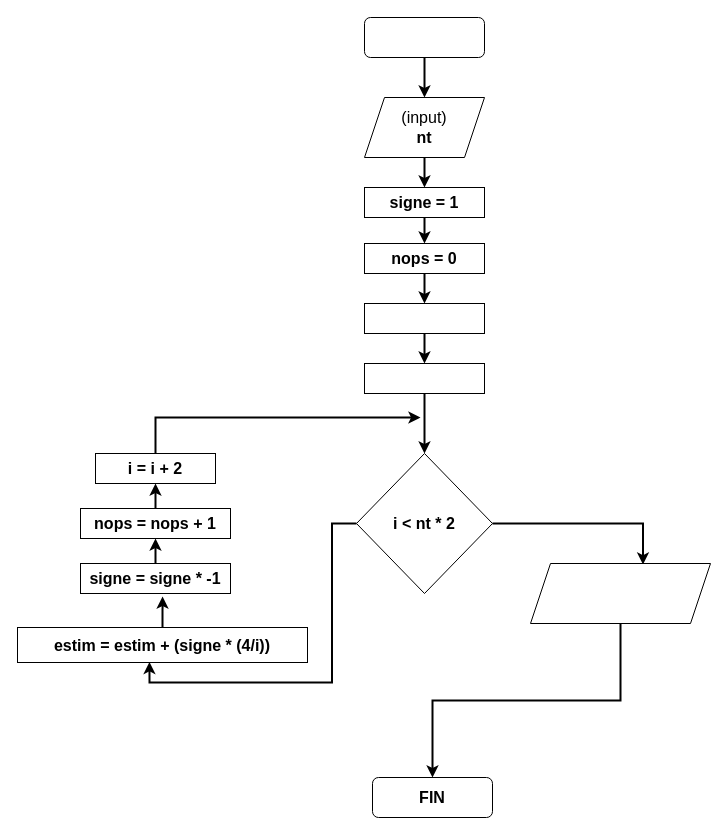
This 728x835 diagram has some shape labels left out. Each missing label, with the centre of its shape:
(output) estim, nops: (x=620, y=593)
DEBUT: (x=424, y=37)
estim = 0: (x=424, y=318)
i = 1: (x=424, y=378)
